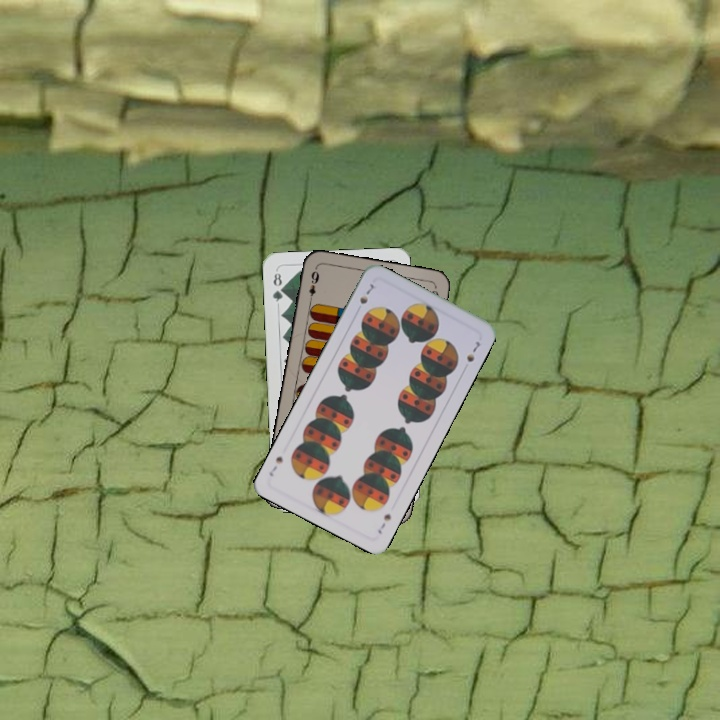E9: (305, 265, 322, 305)
G8: (268, 269, 286, 304)
S7: (356, 279, 377, 307), (374, 509, 394, 537)
